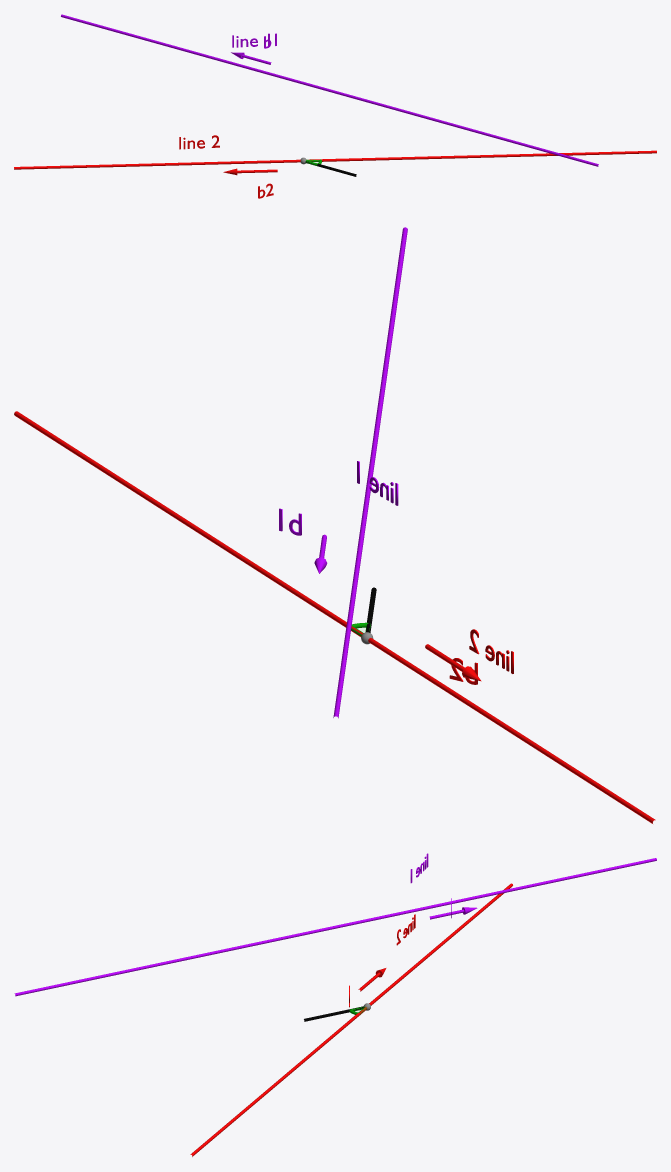
The model's file is 2.3.2 anglelines_e.glb.
3 views of the same model, one above another, from view 1: azimuth 30°, elevation 25°; view 2: azimuth 150°, elevation 25°; view 3: azimuth 270°, elevation 25° (orthographic). The views are drawn at different scales.
Visible parts, largest first — view 1: f, j; view 2: f, j; view 3: j, f.
Part boxes in pixels (left/top/right/bottom): f: left=14, top=150, right=656, bottom=169; j: left=61, top=14, right=598, bottom=166; f: left=14, top=411, right=655, bottom=823; j: left=333, top=227, right=407, bottom=718; j: left=14, top=858, right=656, bottom=996; f: left=190, top=883, right=512, bottom=1156.
Size of the model in its own units: 0.202 by 0.0522 by 0.202.
